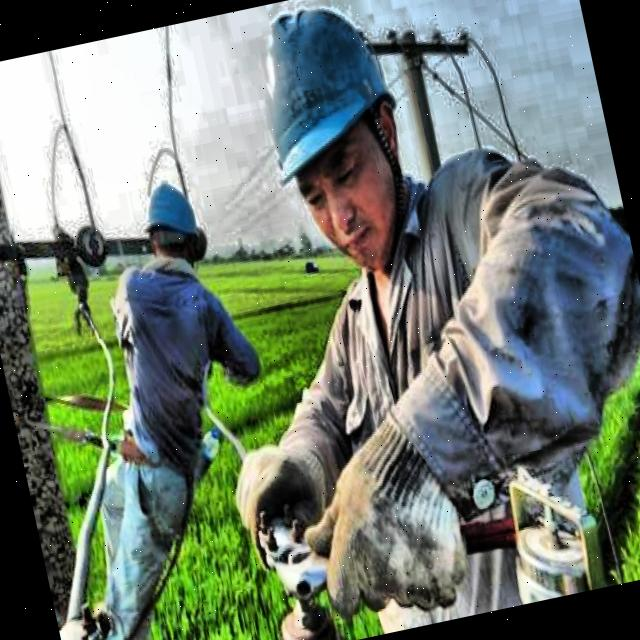helmet: (227, 0, 439, 293), (131, 170, 212, 280)
